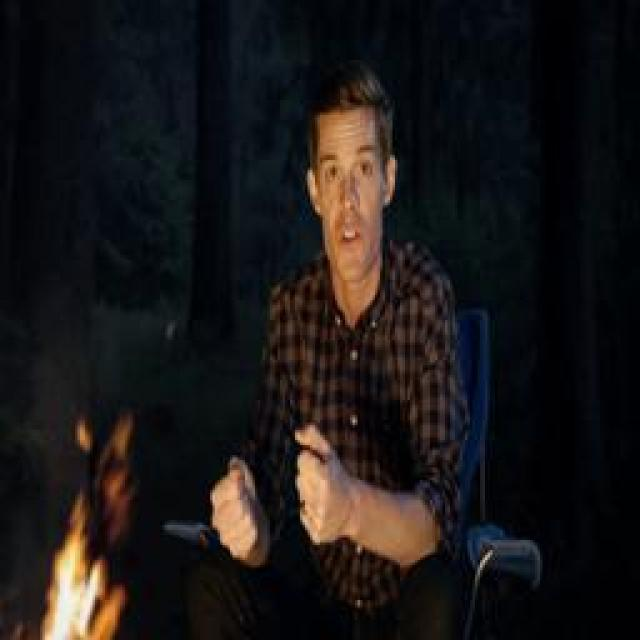Fire: (35, 420, 133, 640)
